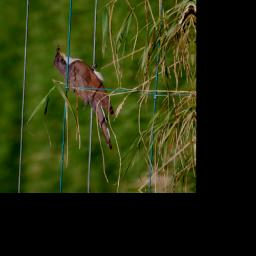Cuckoo: (50, 44, 122, 154)
